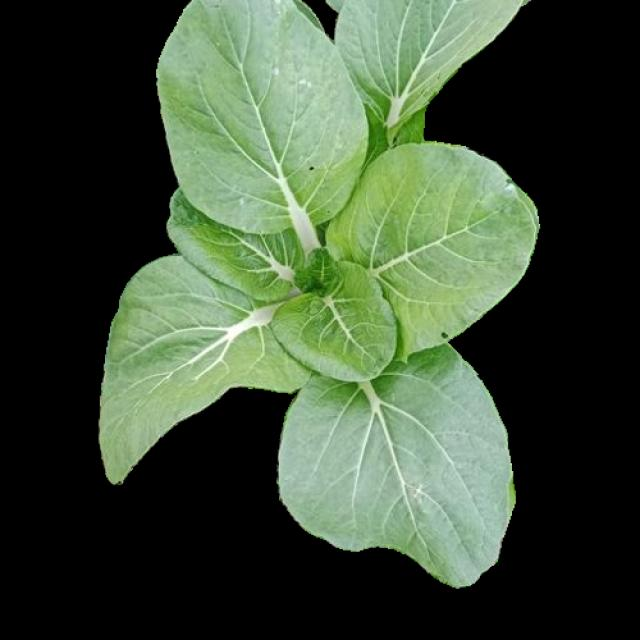mature: (99, 1, 532, 585)
unhealthy: (155, 2, 367, 235), (312, 142, 538, 353)
